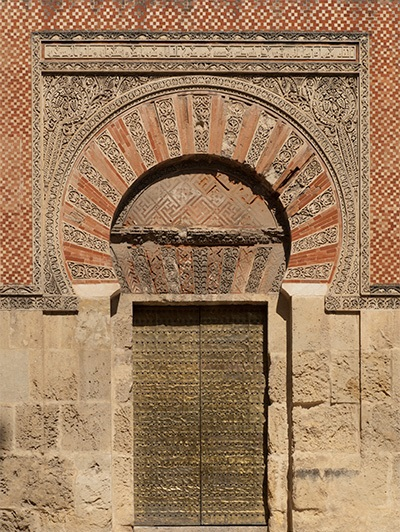arco-herradura: (97, 141, 307, 308)
